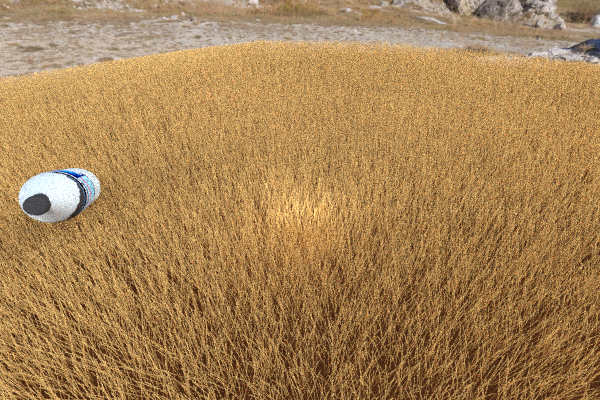bottle: (18, 168, 100, 222)
can: (286, 106, 342, 137), (325, 57, 358, 76)
